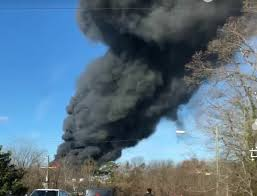smoke: (77, 1, 198, 91), (119, 84, 190, 145), (67, 81, 117, 160), (196, 1, 239, 85)
